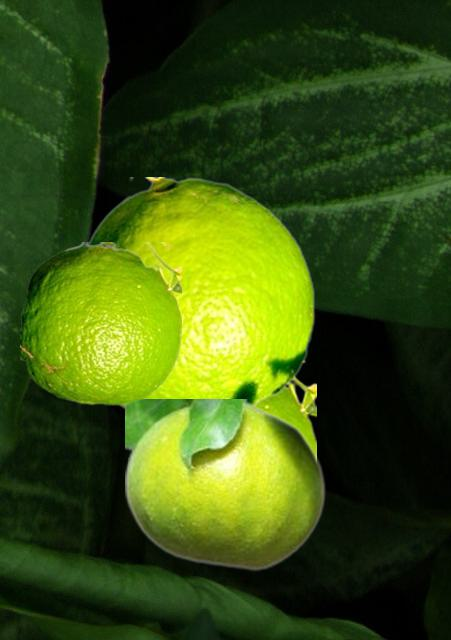dalandan: (87, 177, 314, 412), (125, 399, 325, 570), (20, 242, 180, 404), (128, 359, 315, 455)
